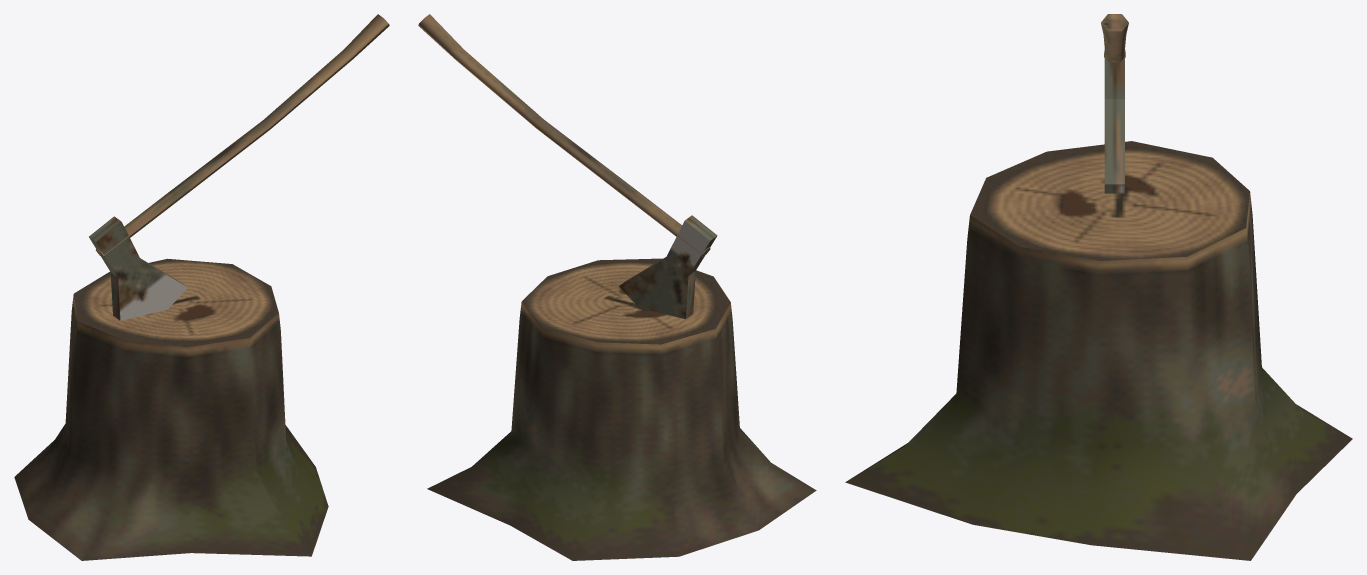
File: stump_axe.obj
The picture shows the model from 3 angles, left to right: view 1: azimuth 30°, elevation 25°; view 2: azimuth 150°, elevation 25°; view 3: azimuth 270°, elevation 25°; orthographic projection. The views are drawn at different scales.
Parts seen in each view (by area): view 1: stump_axe; view 2: stump_axe; view 3: stump_axe.
Part boxes in pixels (left/top/right/bottom): stump_axe: left=14, top=14, right=389, bottom=560; stump_axe: left=418, top=14, right=816, bottom=560; stump_axe: left=845, top=14, right=1352, bottom=560.
Bounding box in the file's own units: 0.8184 × 0.9493 × 0.7536.
Materials: 1 (1 with a texture image).
